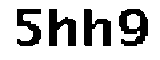5: (12, 7, 45, 50)
9: (114, 5, 150, 49)
h: (45, 5, 78, 49), (81, 7, 113, 51)
